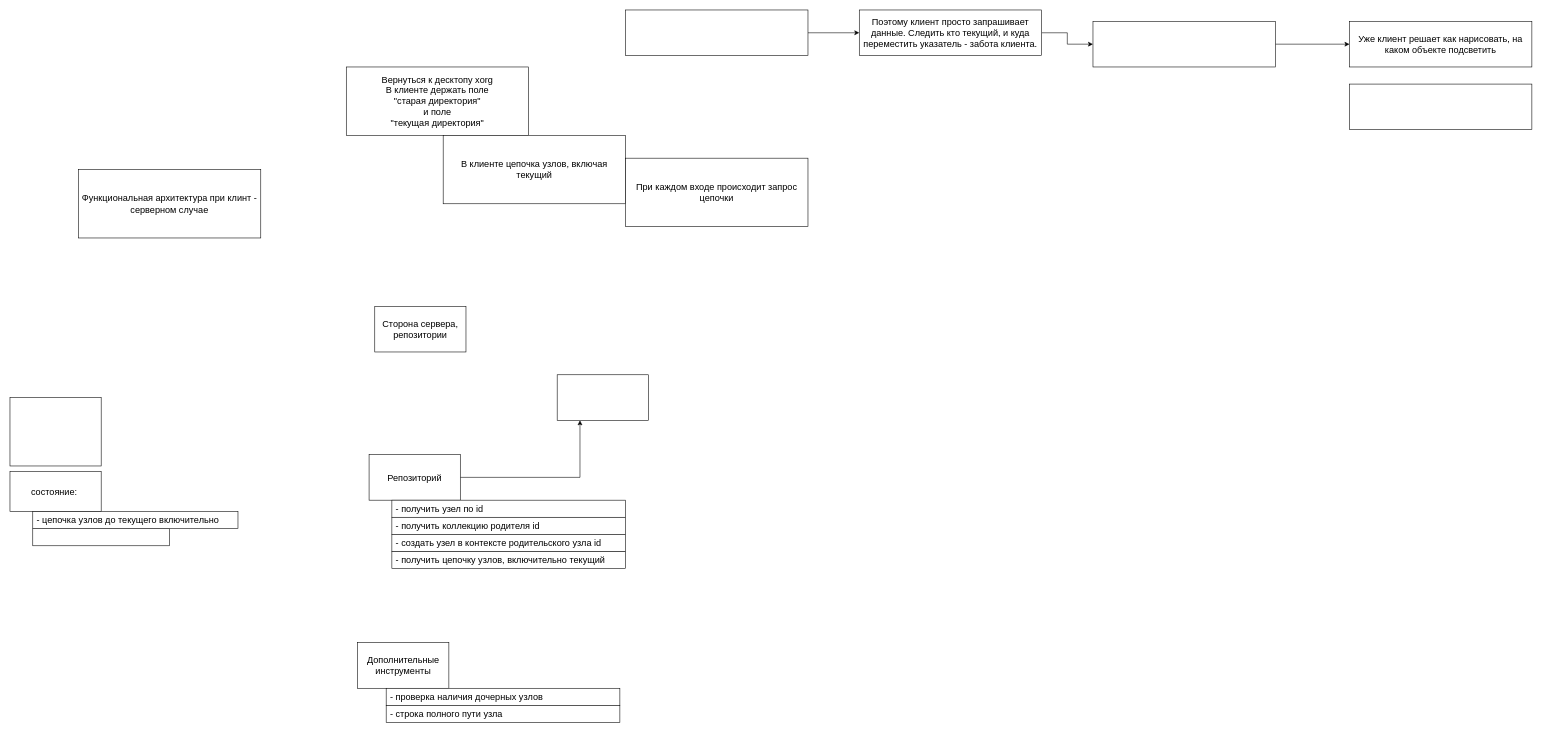
The diagram is 1542 pixels wide and 732 high, and some of its shapes have lost their labels. Each missing label, with the centre of its shape:
"- текущая коллекция" belongs at [101,537].
"Касательно xorg и его части NodesViewUC. Создать класс NodesViewModel" belongs at [1440,107].
"Клиент" belongs at [55,431].
"Правильно, если логика перемещения по объектам находится в клиенте, то есть view" belongs at [716,32].
"Сервер только отдает объект, коллекцию объектов, цепочку родительских узлов." belongs at [1183,44].
"Таблица древовидной структуры" belongs at [602,397].
